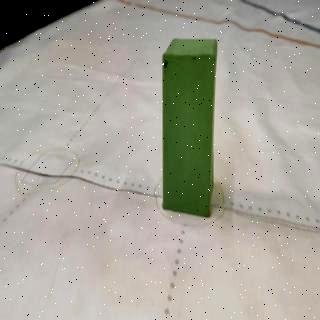greenbox: (161, 35, 218, 220)
